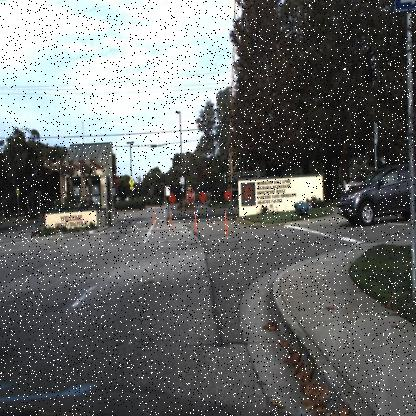car: (336, 157, 415, 228)
